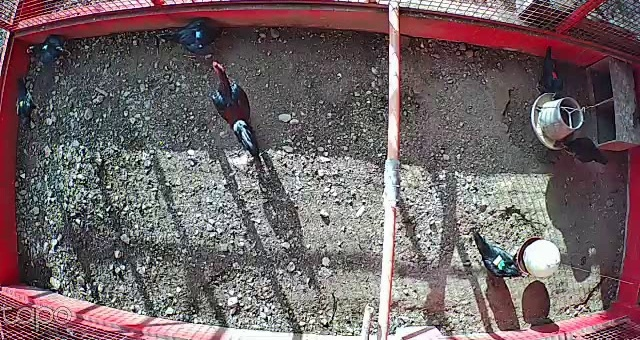Chicken: (468, 227, 533, 286), (154, 12, 225, 63), (9, 69, 45, 146), (529, 42, 568, 107), (557, 134, 616, 172), (21, 33, 79, 67)
Rooster: (205, 56, 266, 165)
Saddle_Color_Blue: (196, 29, 203, 46)
Saddle_Color_Red: (552, 70, 557, 80)
Saddle_Color_Yellow: (19, 100, 24, 108)
Saddle_Color_YellowGreen: (490, 251, 509, 270)
